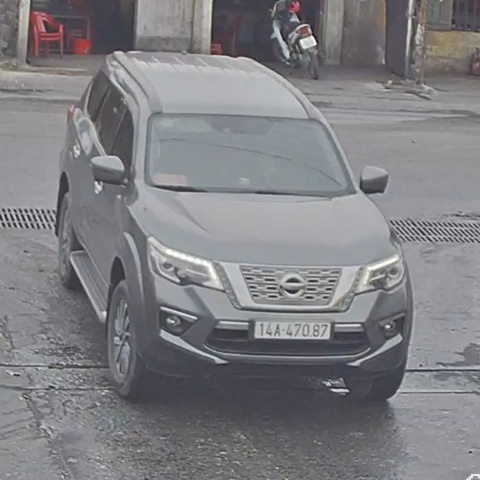vehicle plate: (249, 311, 333, 341)
